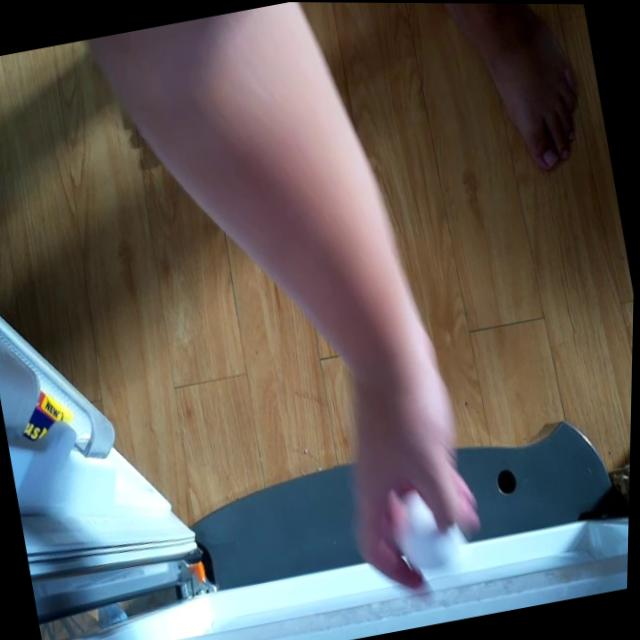egg: (395, 487, 467, 577)
